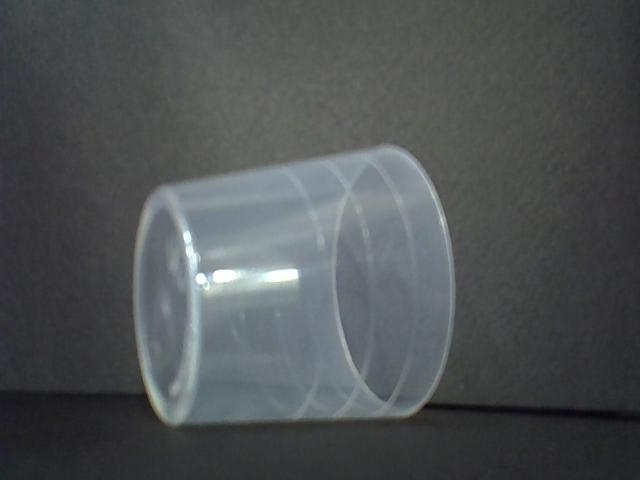cup: (131, 141, 461, 423)
